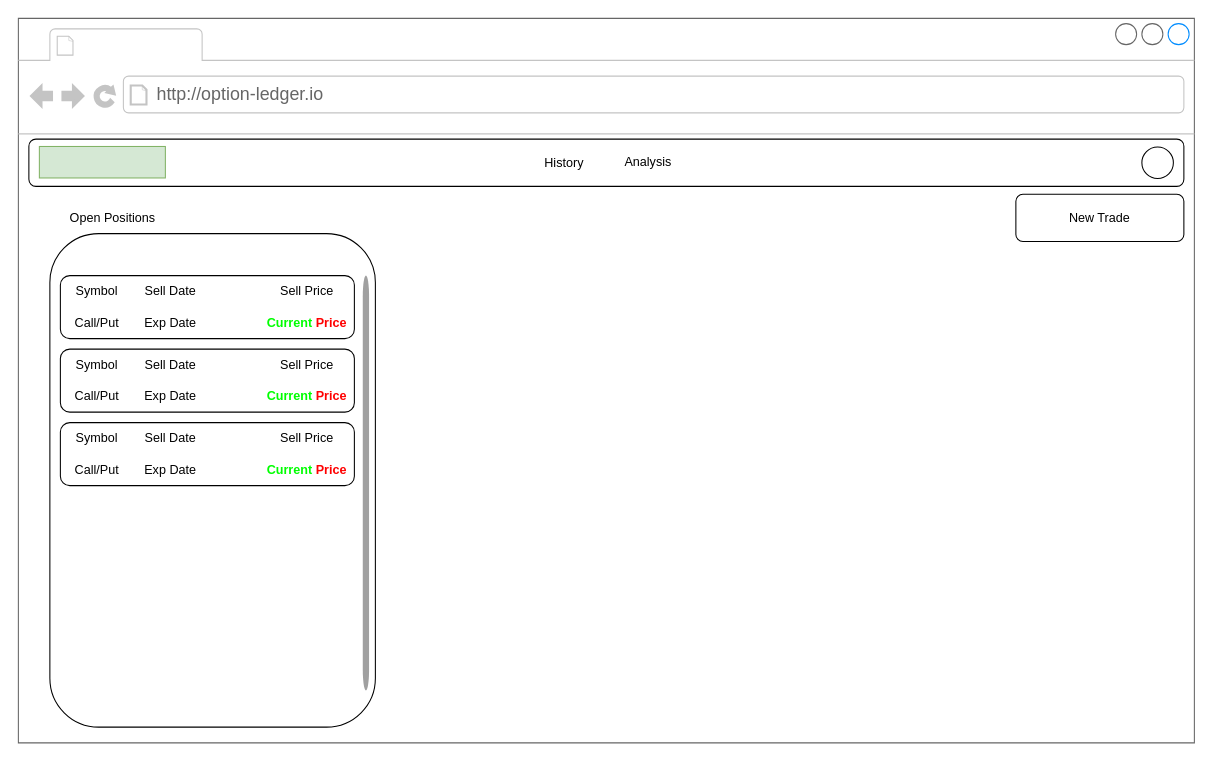
This 1213x761 diagram has some shape labels left out. The shapes that lost their labels are listed below. From the top down, each one's centre as x and y in pixels, then its label:
At point 138,44: "Page 1".
At point 101,161: "Option-Ledger.io".
